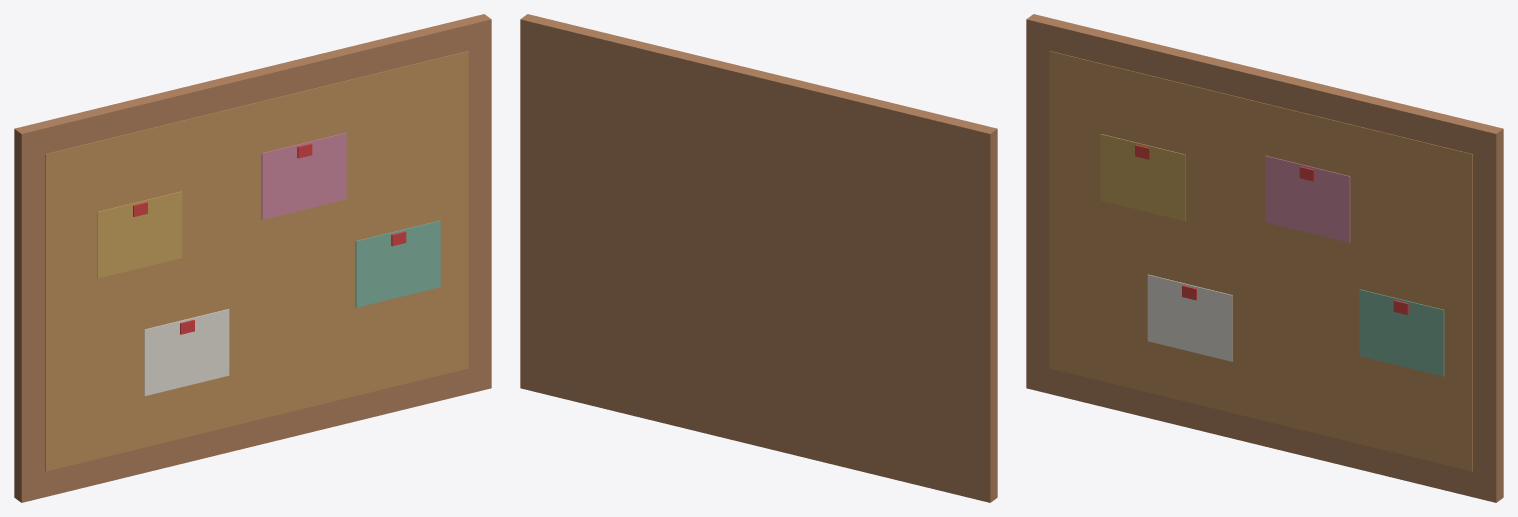
File: cork-board.glb
3 renders of one model, left to right at view 1: azimuth 30°, elevation 25°; view 2: azimuth 150°, elevation 25°; view 3: azimuth 330°, elevation 25°, orthographic.
Visible parts, largest first — view 1: cork-board; view 2: cork-board; view 3: cork-board.
Part boxes in pixels (box(x1,y1,x2,y2)): cork-board: box(14, 14, 491, 502); cork-board: box(520, 14, 997, 502); cork-board: box(1026, 14, 1503, 502).
Bounding box in the file's own units: 60 × 45 × 2.
